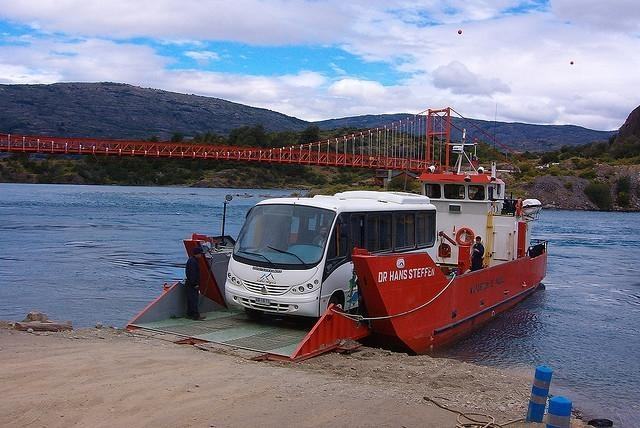bus: (227, 193, 440, 315)
